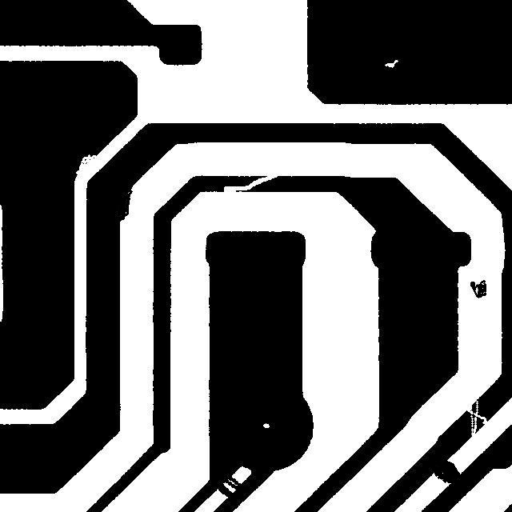copper: (462, 272, 494, 306)
mousebite: (68, 146, 104, 182)
open: (216, 166, 285, 200), (458, 393, 494, 448)
pin-hole: (377, 52, 406, 75)
short: (420, 443, 475, 498), (207, 466, 257, 506)
spur: (111, 182, 140, 228)
